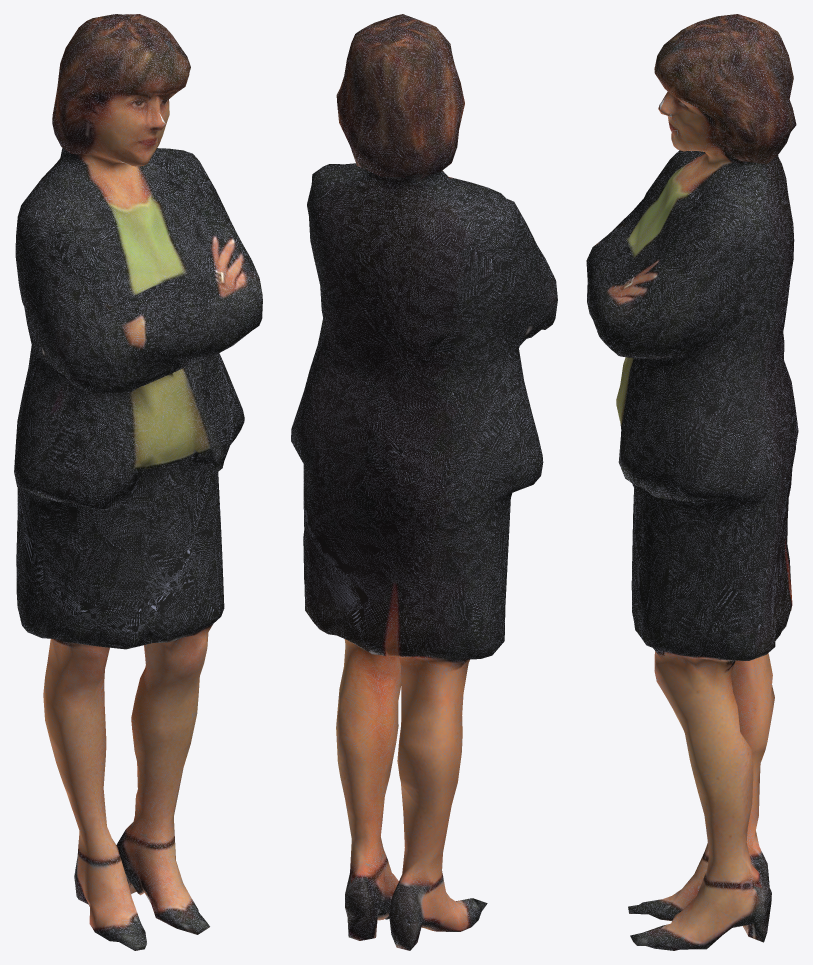
The picture shows the model from 3 angles, left to right: view 1: azimuth 30°, elevation 25°; view 2: azimuth 150°, elevation 25°; view 3: azimuth 270°, elevation 25°; orthographic projection. The views are drawn at different scales.
Visible parts, largest first — view 1: SketchUp; view 2: SketchUp; view 3: SketchUp.
Boxes of the visible parts, <box> form: SketchUp: <box>14,14,262,950</box>; SketchUp: <box>291,14,557,950</box>; SketchUp: <box>586,14,798,950</box>.
Size of the model in its own units: 17.37 by 13.84 by 65.29.
Materials: 3 (1 with a texture image).
